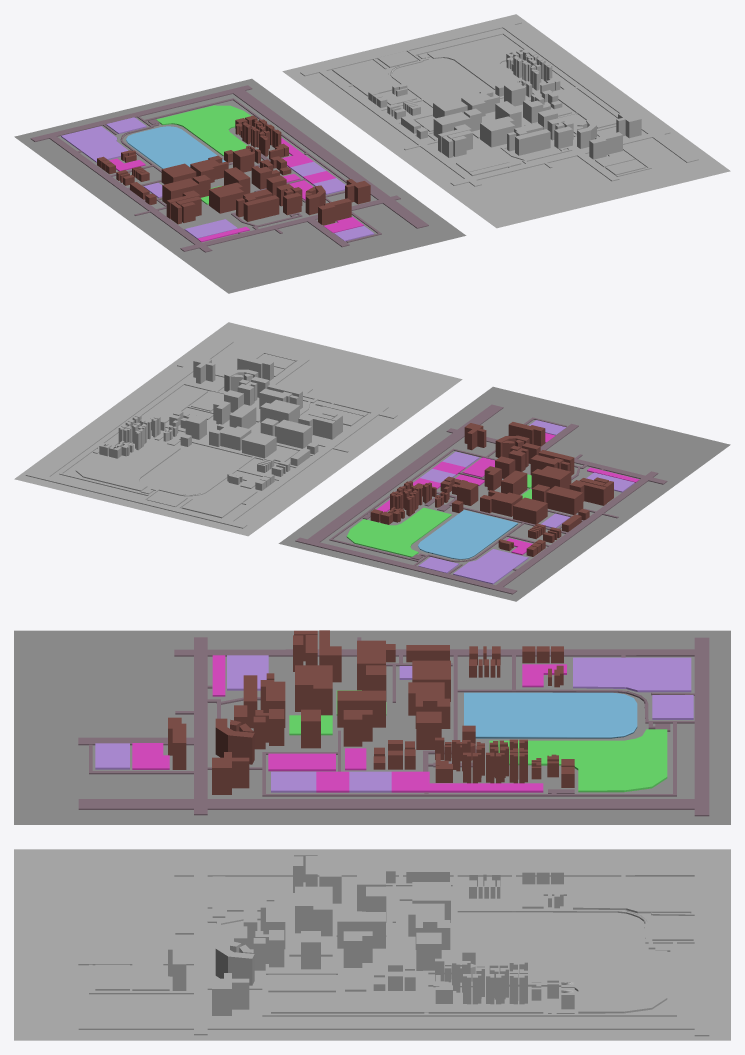
Rendered from csuf_map.glb.
The picture shows the model from 3 angles, top to bottom: view 1: azimuth 30°, elevation 25°; view 2: azimuth 150°, elevation 25°; view 3: azimuth 270°, elevation 25°; orthographic projection. The views are drawn at different scales.
Visible parts, largest first — view 1: map_combined, ground2, polySurface172, Titan_Sports_Complex, Aboretum, A_Parking, E_EastSideParking, SH_StudentHousing, CPAC_ClayesPerformingArtsCenter, DBH_DanBlackHall, CP_CollegePark, TG_KHS (+4 smaller); view 2: map_combined, ground2, polySurface172, Titan_Sports_Complex, Aboretum, A_Parking, E_EastSideParking, SH_StudentHousing, TSU_TitanStudentUnion, TG_KHS, SRC_StudentRecreationCenter, CPAC_ClayesPerformingArtsCenter (+4 smaller); view 3: map_combined, ground2, polySurface172, Titan_Sports_Complex, Aboretum, E_EastSideParking, A_Parking, SH_StudentHousing, CPAC_ClayesPerformingArtsCenter, TG_KHS, FullertonMarriott, PL_PollakLibrary (+17 smaller).
Boxes of the visible parts, x1,y1,x2,y2 form: map_combined: (282,14,730,228); ground2: (14,78,466,293); polySurface172: (30,85,428,252); Titan_Sports_Complex: (126,126,225,168); Aboretum: (156,105,250,156); A_Parking: (61,126,127,162); E_EastSideParking: (281,138,345,194); SH_StudentHousing: (242,119,288,159); CPAC_ClayesPerformingArtsCenter: (209,182,243,213); DBH_DanBlackHall: (243,195,279,221); CP_CollegePark: (318,198,351,225); TG_KHS: (190,155,228,182); map_combined: (14,322,462,536); ground2: (278,386,730,601); polySurface172: (295,404,667,594); Titan_Sports_Complex: (418,510,517,559); Aboretum: (346,507,451,557); A_Parking: (453,549,528,584); E_EastSideParking: (377,451,479,512); SH_StudentHousing: (390,481,436,516); TSU_TitanStudentUnion: (546,486,583,514); TG_KHS: (480,490,522,516); SRC_StudentRecreationCenter: (513,497,547,524); CPAC_ClayesPerformingArtsCenter: (531,466,571,489); map_combined: (14,849,730,1040); ground2: (14,630,730,824); polySurface172: (78,637,709,816); Titan_Sports_Complex: (464,692,637,738); Aboretum: (489,729,667,792); E_EastSideParking: (271,771,543,792); A_Parking: (573,657,691,692); SH_StudentHousing: (435,739,527,783); CPAC_ClayesPerformingArtsCenter: (295,665,332,715); TG_KHS: (408,682,450,728); FullertonMarriott: (212,752,249,794); PL_PollakLibrary: (337,690,385,727).
Size of the model in its own units: 30.29 by 0.9701 by 22.4.
